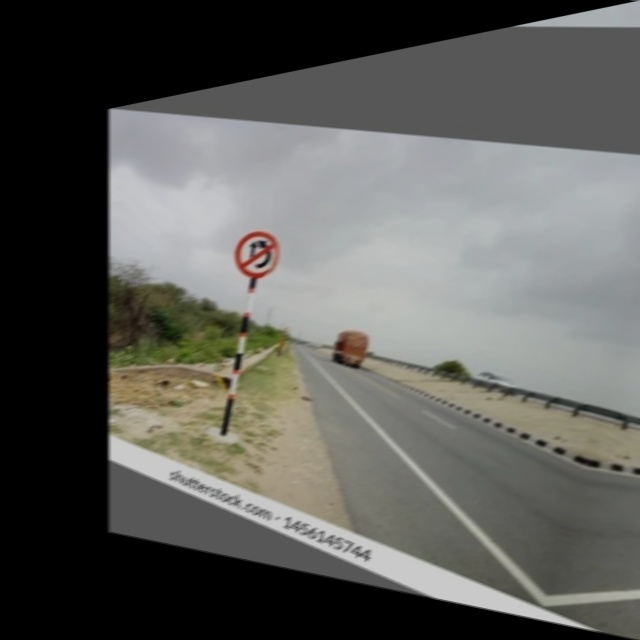Overtaking_Prohibited: (229, 224, 284, 285)
